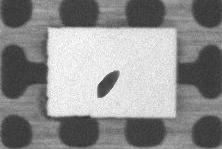DIE_INK: (137, 44, 188, 70)
